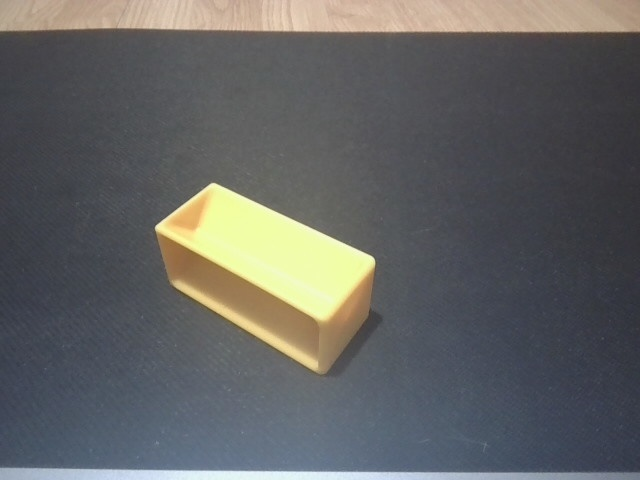YellowSample: (148, 177, 379, 380)
